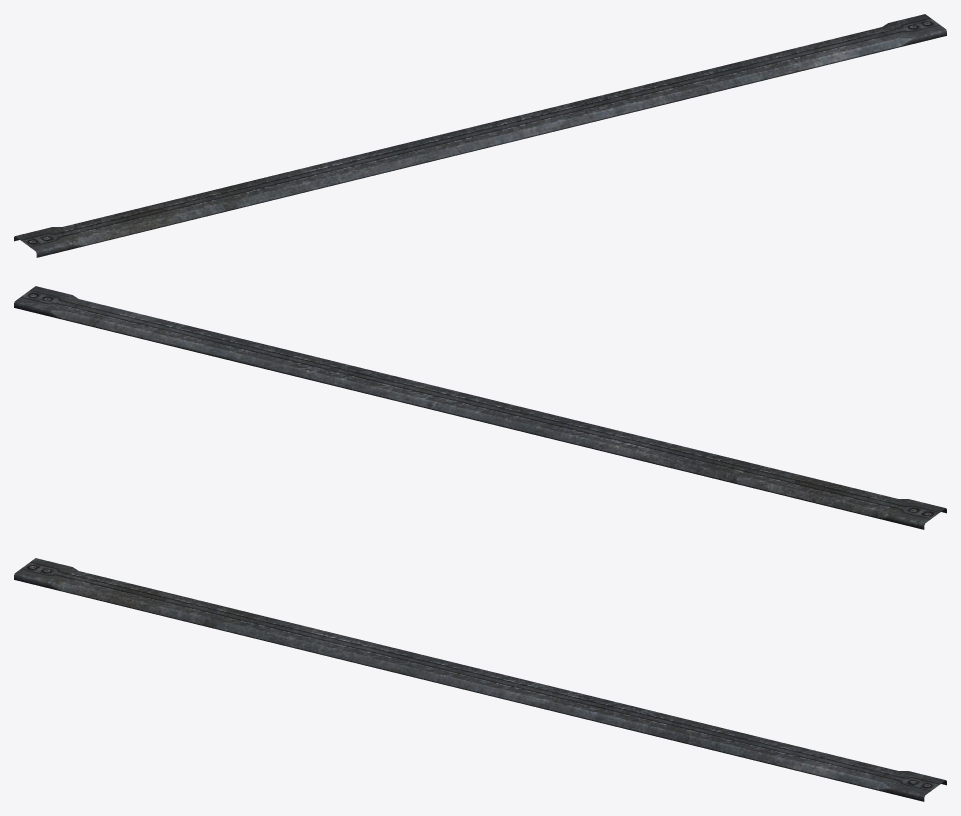
File: living_area_welder_metal_thin.dae
The picture shows the model from 3 angles, top to bottom: view 1: azimuth 30°, elevation 25°; view 2: azimuth 150°, elevation 25°; view 3: azimuth 330°, elevation 25°; orthographic projection.
Visible parts, largest first — view 1: polySurface142; view 2: polySurface142; view 3: polySurface142.
Boxes of the visible parts, box(x1,y1,x2,y2) form: polySurface142: box(14, 14, 946, 257); polySurface142: box(14, 286, 946, 529); polySurface142: box(14, 558, 946, 801).
Size of the model in its own units: 4 by 0.0247 by 0.1722.
Materials: 1 (1 with a texture image).
